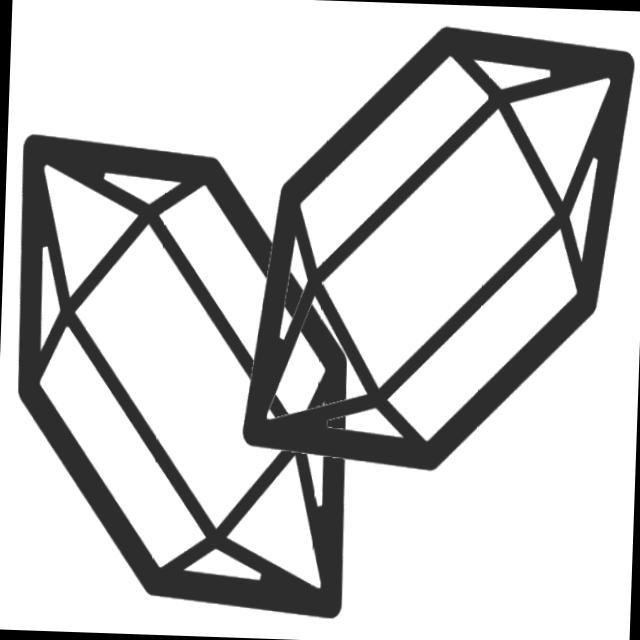crystal: (231, 7, 640, 490), (1, 115, 367, 628)
